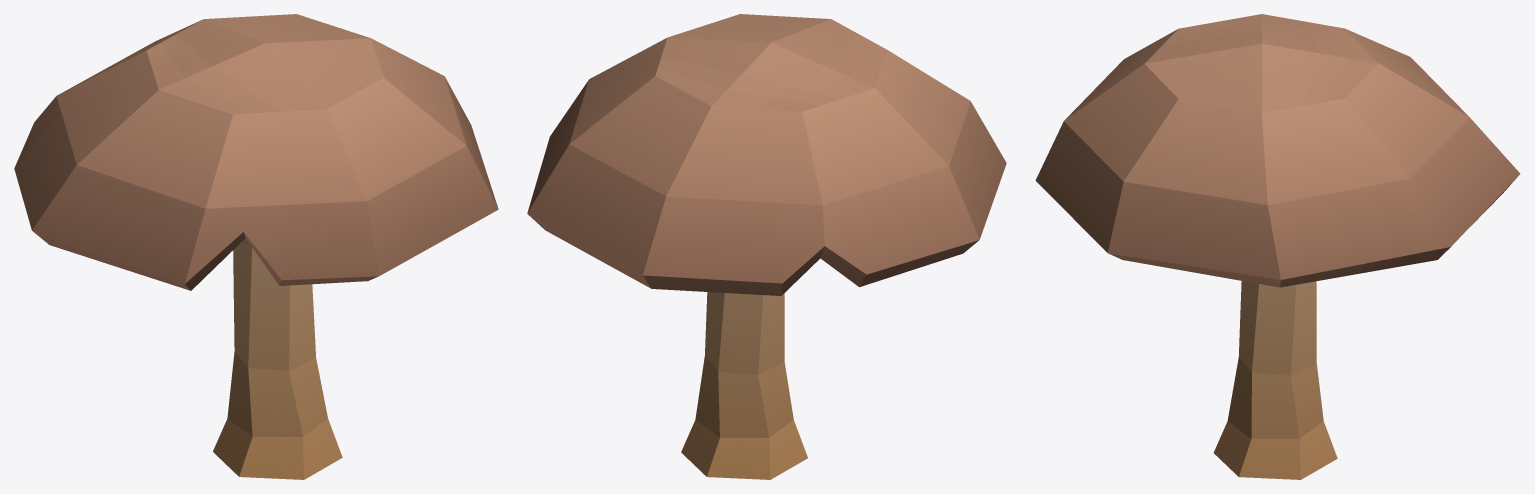
Rendered from grzyb2.fbx.
3 views of the same model, side by side, from view 1: azimuth 30°, elevation 25°; view 2: azimuth 150°, elevation 25°; view 3: azimuth 270°, elevation 25° (orthographic). The views are drawn at different scales.
Parts seen in each view (by area): view 1: grzyb2, Circle.004; view 2: grzyb2, Circle.004; view 3: grzyb2, Circle.004.
Part boxes in pixels (x1=…): grzyb2: x1=14, y1=14, x2=498, y2=290; Circle.004: x1=213, y1=238, x2=342, y2=479; grzyb2: x1=527, y1=14, x2=1006, y2=295; Circle.004: x1=681, y1=292, x2=807, y2=479; grzyb2: x1=1035, y1=14, x2=1520, y2=287; Circle.004: x1=1213, y1=281, x2=1337, y2=479.
Bounding box in the file's own units: 744 × 682 × 744.
